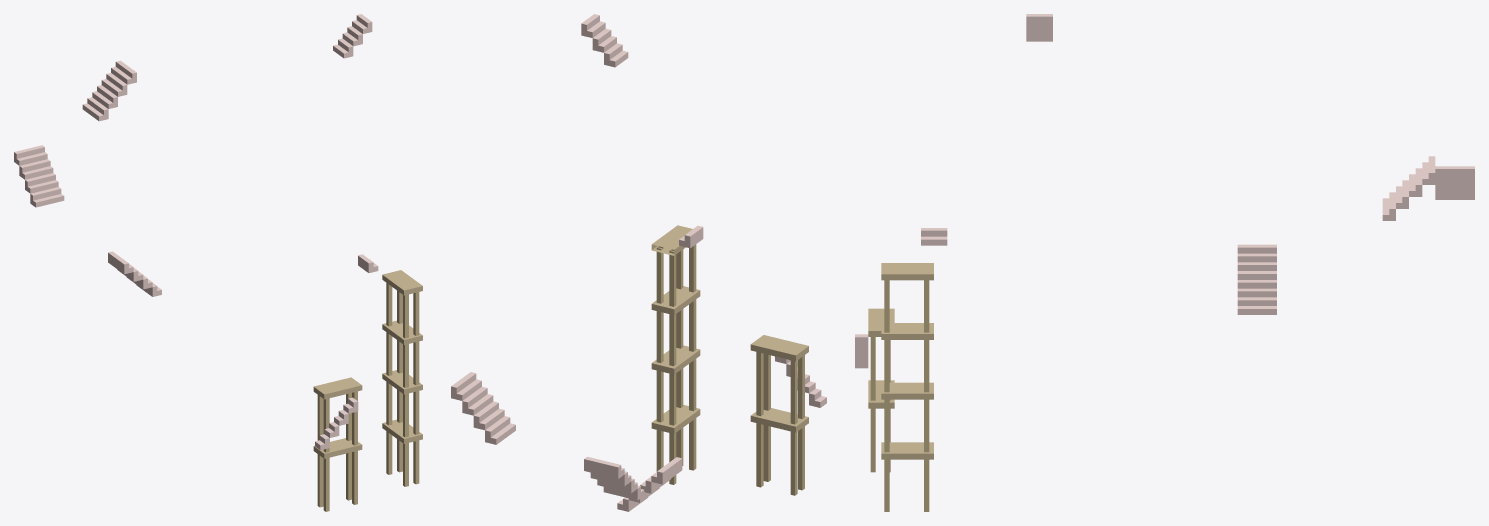
File: SphereScaffold.fbx
3 views of the same model, side by side, from view 1: azimuth 30°, elevation 25°; view 2: azimuth 150°, elevation 25°; view 3: azimuth 270°, elevation 25° (orthographic). The views are drawn at different scales.
Visible parts, largest first — view 1: Sphere_scaffolding, Sphere_Stairs, Sphere_scaffolding.001; view 2: Sphere_scaffolding, Sphere_Stairs, Sphere_scaffolding.001; view 3: Sphere_Stairs, Sphere_scaffolding.001, Sphere_scaffolding.
Part boxes in pixels (left/top/right/bottom): Sphere_scaffolding: left=317, top=283, right=419, bottom=511; Sphere_Stairs: left=14, top=14, right=378, bottom=450; Sphere_scaffolding.001: left=313, top=270, right=422, bottom=458; Sphere_scaffolding: left=656, top=244, right=804, bottom=495; Sphere_Stairs: left=451, top=14, right=826, bottom=511; Sphere_scaffolding.001: left=651, top=225, right=808, bottom=433; Sphere_Stairs: left=855, top=14, right=1474, bottom=368; Sphere_scaffolding.001: left=868, top=263, right=933, bottom=459; Sphere_scaffolding: left=870, top=280, right=929, bottom=511.
Bounding box in the file's own units: 2020 × 4242 × 4747.
